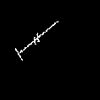treble_crochet: (15, 23, 55, 59)
